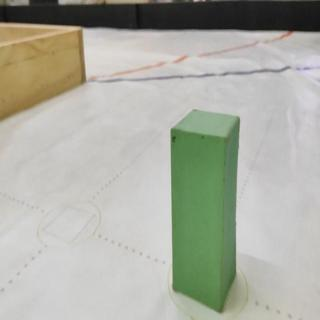greenbox: (169, 106, 244, 314)
